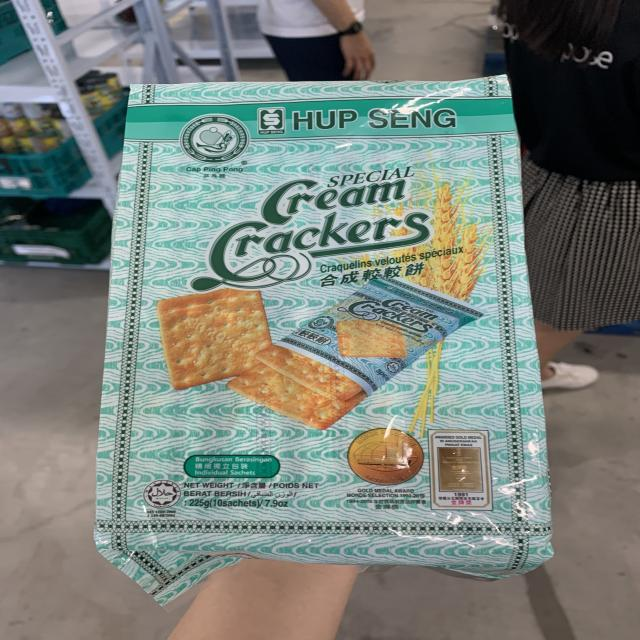object_name: (125, 87, 532, 551)
